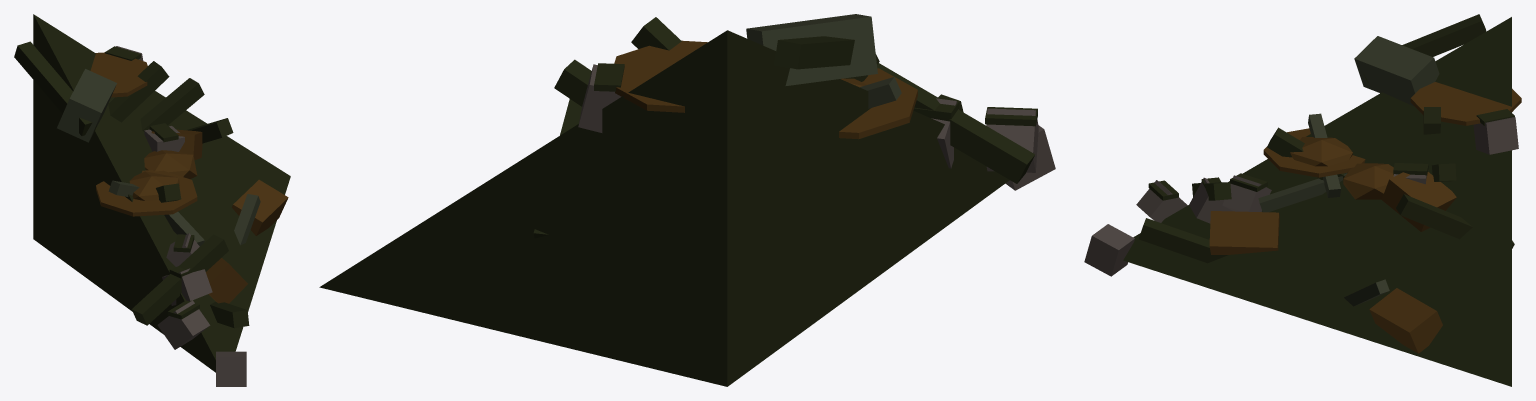
Rendered from SM_PilaZombi_RemateDer_Altura3_s2_LOD0.fbx.
3 views of the same model, side by side, from view 1: azimuth 30°, elevation 25°; view 2: azimuth 150°, elevation 25°; view 3: azimuth 270°, elevation 25° (orthographic). The views are drawn at different scales.
Parts seen in each view (by area): view 1: SM_pila_zombis_v12_LOD0; view 2: SM_pila_zombis_v12_LOD0; view 3: SM_pila_zombis_v12_LOD0.
Boxes of the visible parts, bbox=[...] form: SM_pila_zombis_v12_LOD0: bbox=[14, 14, 290, 386]; SM_pila_zombis_v12_LOD0: bbox=[319, 14, 1055, 386]; SM_pila_zombis_v12_LOD0: bbox=[1084, 14, 1521, 386].
Bounding box in the file's own units: 2.39 × 1.77 × 2.84.
